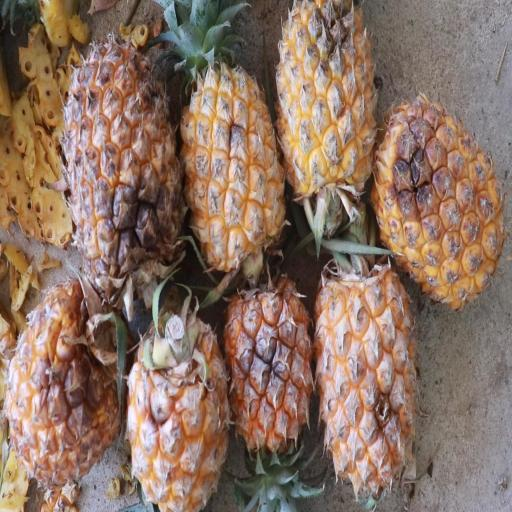Pineapple - v8 v1: (56, 6, 186, 300), (369, 67, 506, 302), (175, 11, 291, 282), (314, 241, 426, 498), (4, 256, 124, 492), (121, 271, 232, 512), (220, 252, 314, 506), (273, 4, 377, 199)
